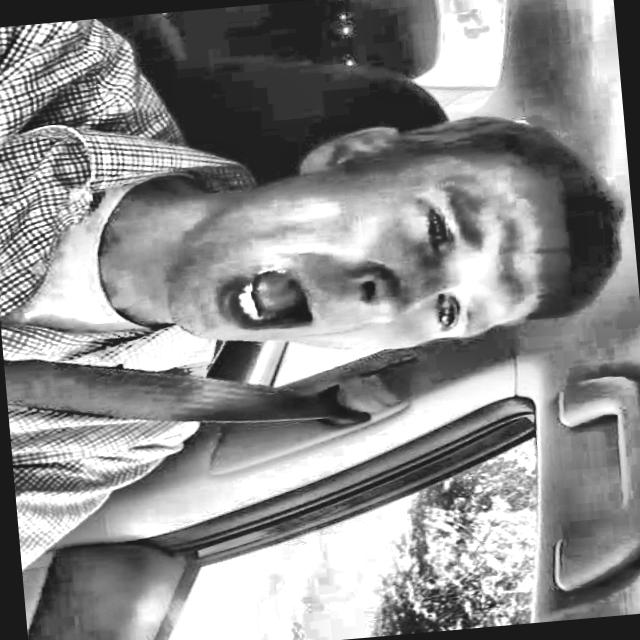open_eyes: (406, 203, 466, 263), (417, 285, 470, 340)
open_mouth: (202, 249, 328, 349)
